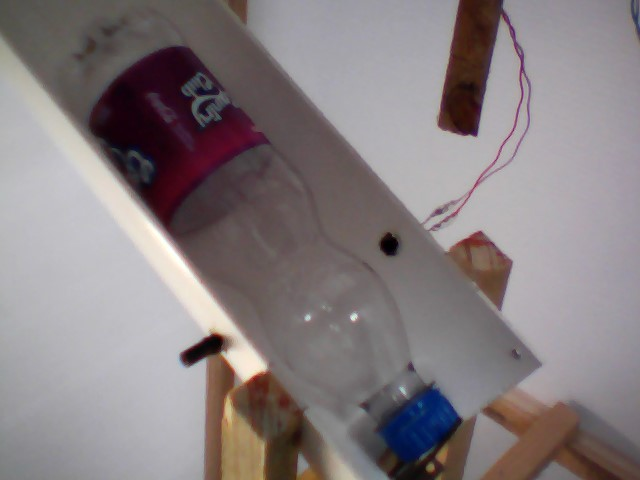plastico: (43, 5, 465, 466)
